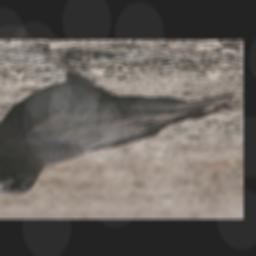Crow: (0, 46, 236, 197)
